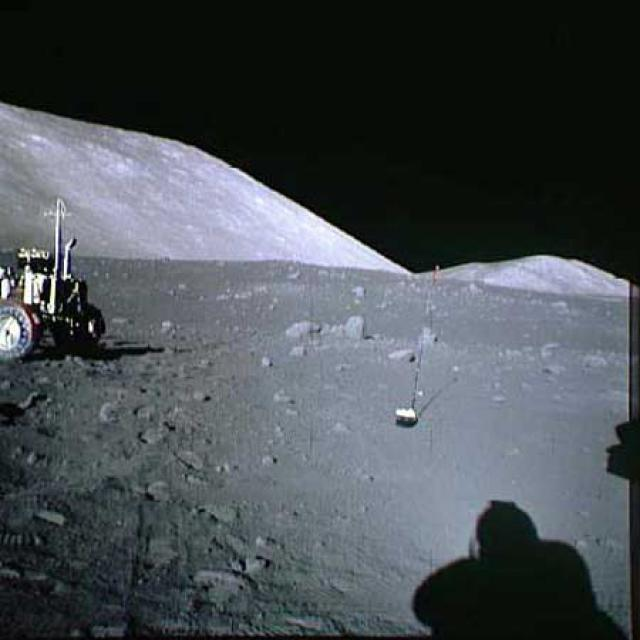artifact: (0, 186, 115, 364), (391, 262, 449, 428)
rock: (284, 313, 340, 338), (342, 308, 371, 342), (268, 382, 295, 406), (387, 345, 414, 365), (188, 388, 211, 406), (98, 398, 115, 421), (348, 280, 367, 298), (290, 344, 308, 359), (257, 353, 276, 366)
